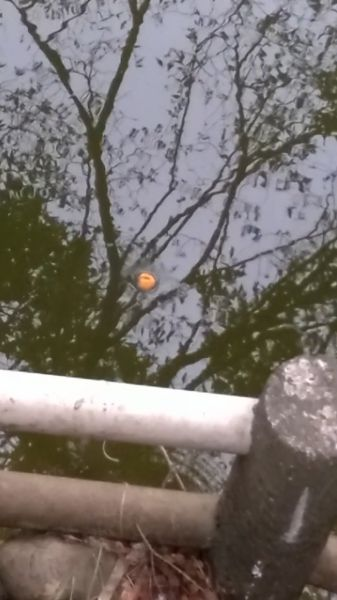eggs: (132, 266, 160, 291)
